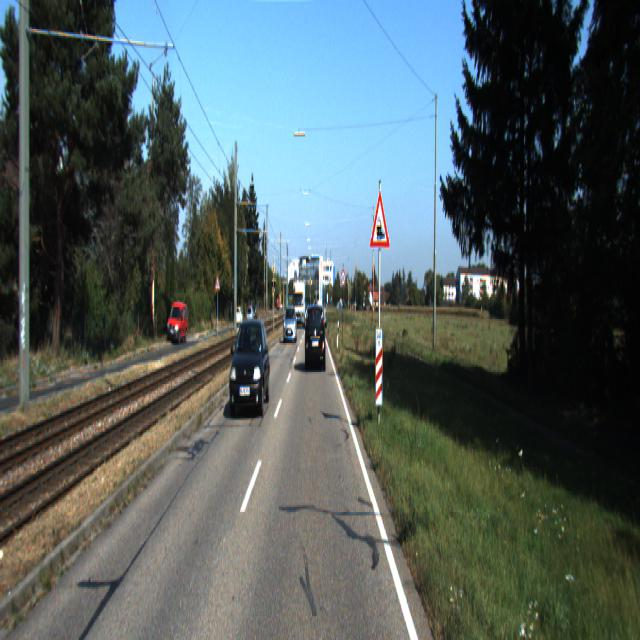Car: (228, 313, 272, 419), (306, 303, 326, 373), (167, 303, 188, 347), (283, 306, 297, 346)
